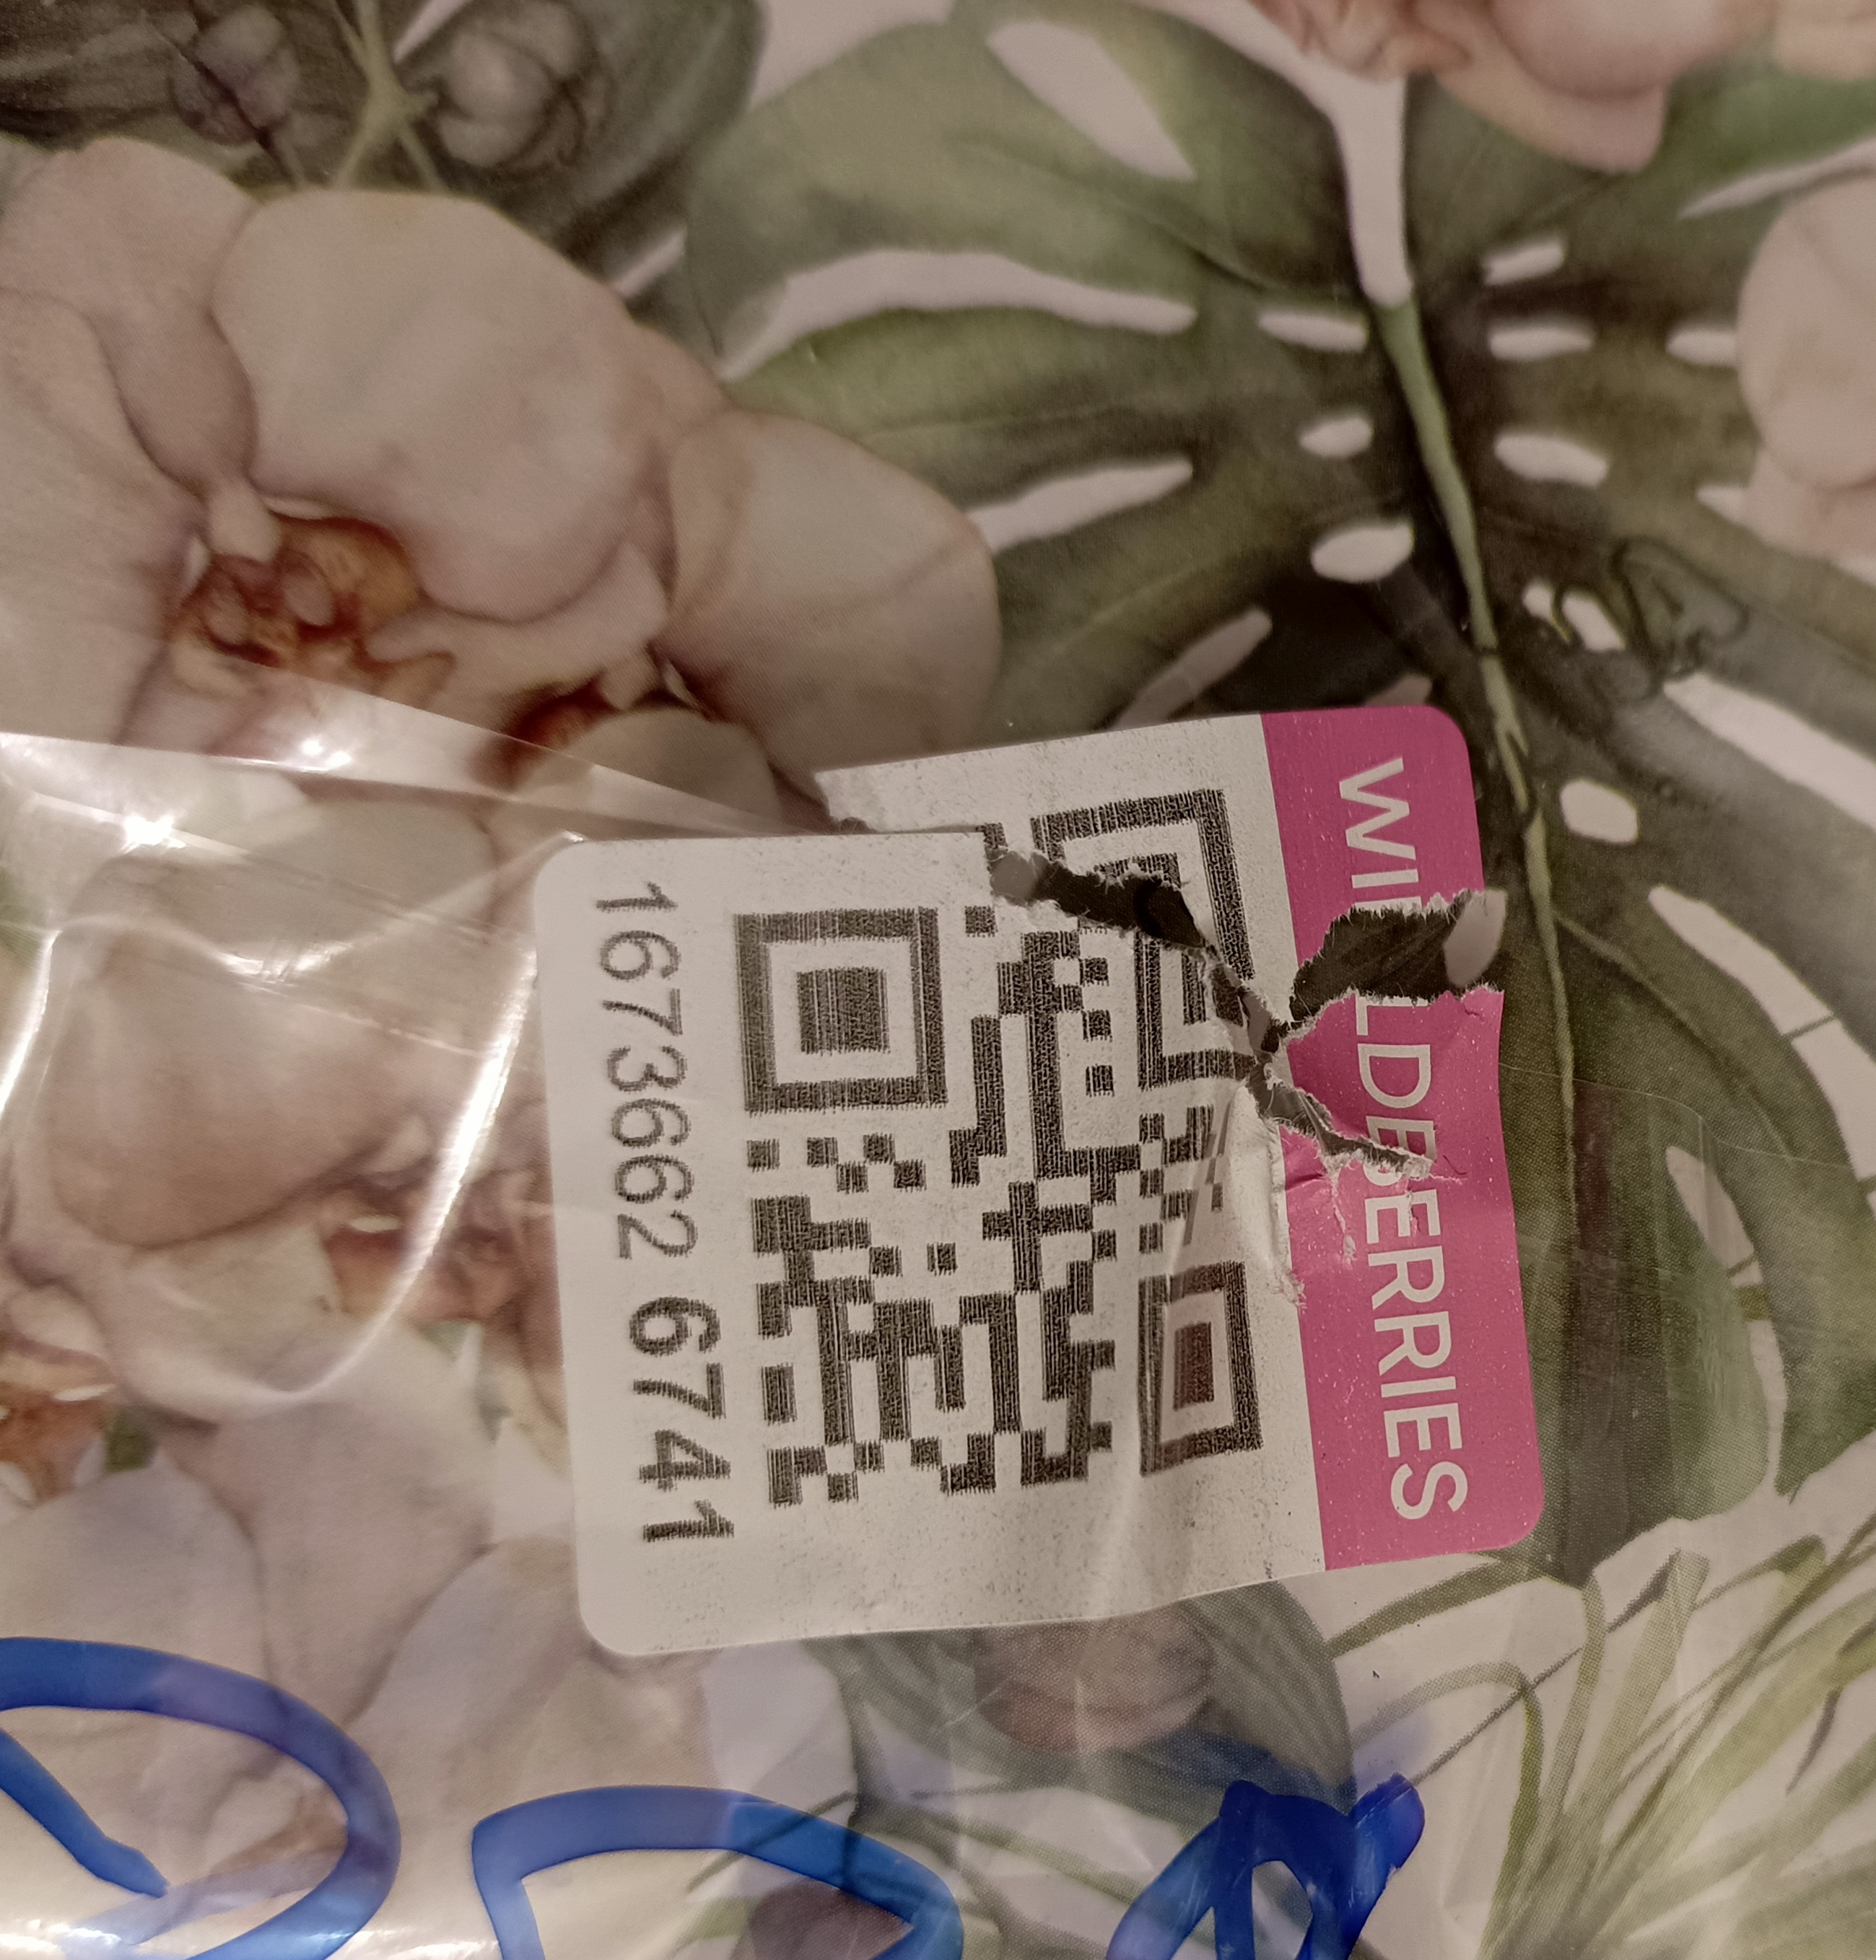2d: (726, 786, 1263, 1512)
